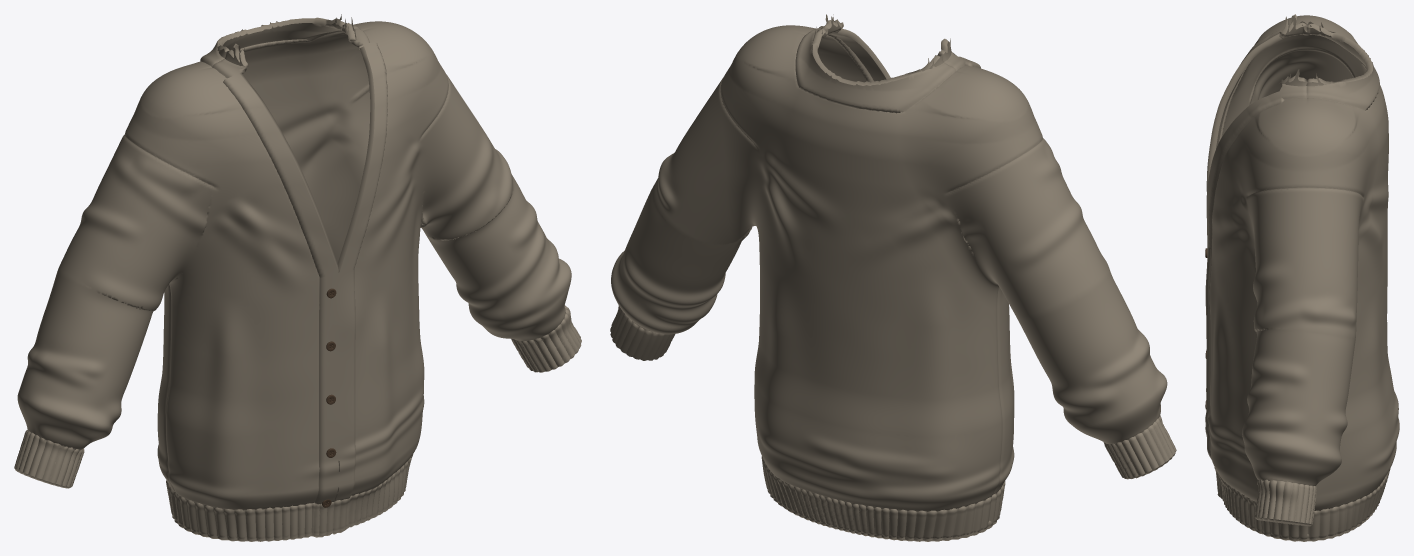
File: 04_cardigan.glb
The picture shows the model from 3 angles, left to right: view 1: azimuth 30°, elevation 25°; view 2: azimuth 150°, elevation 25°; view 3: azimuth 270°, elevation 25°; orthographic projection. The views are drawn at different scales.
Parts seen in each view (by area): view 1: body; view 2: body; view 3: body.
Boxes of the visible parts, x1,y1,x2,y2 form: body: (14,14,581,541); body: (610,14,1176,541); body: (1205,14,1399,541).
Bounding box in the file's own units: 0.9881 × 0.8062 × 0.3134.
